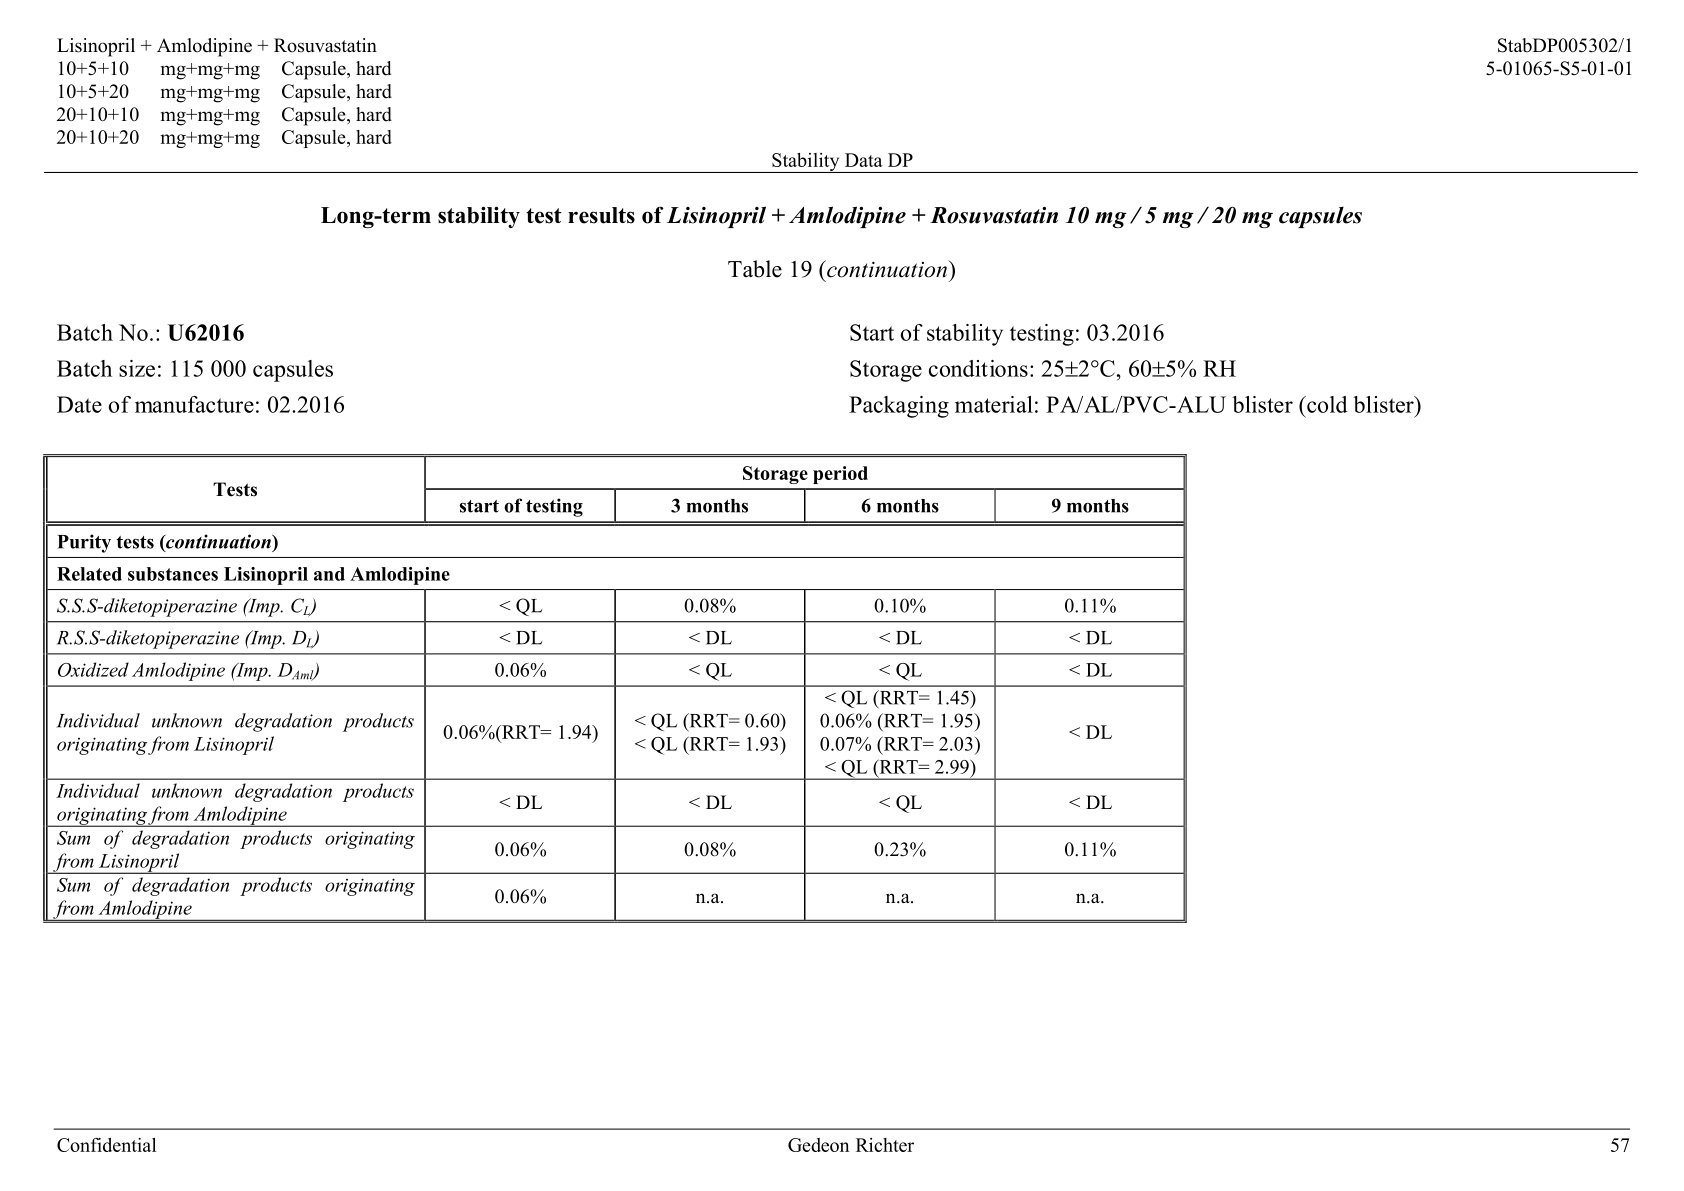merged_cells: (41, 452, 1187, 923)
